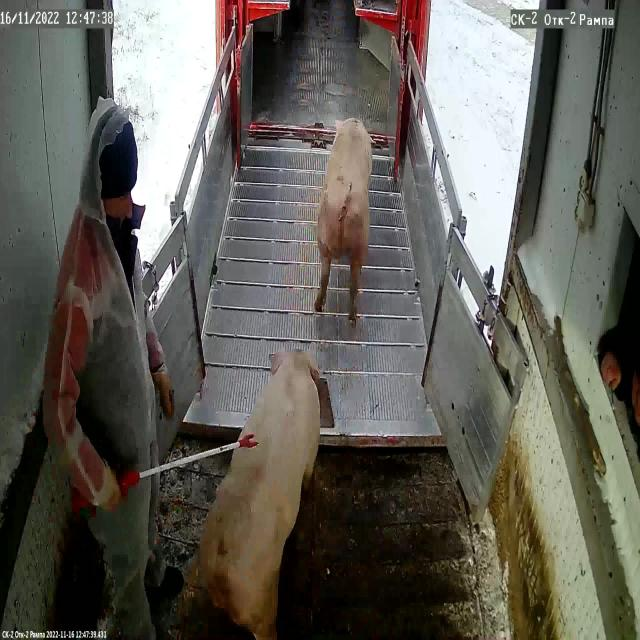pig: (180, 351, 321, 640), (314, 118, 373, 325)
